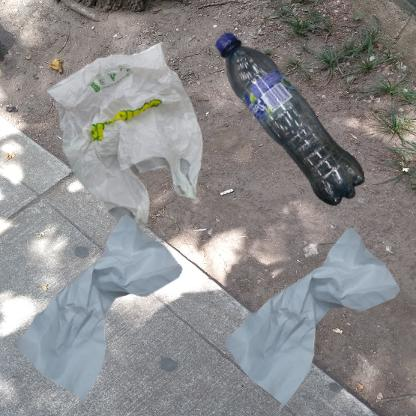bolsa: (10, 10, 257, 265)
botella: (213, 10, 384, 246)
papel: (213, 213, 411, 416), (10, 213, 185, 409)
